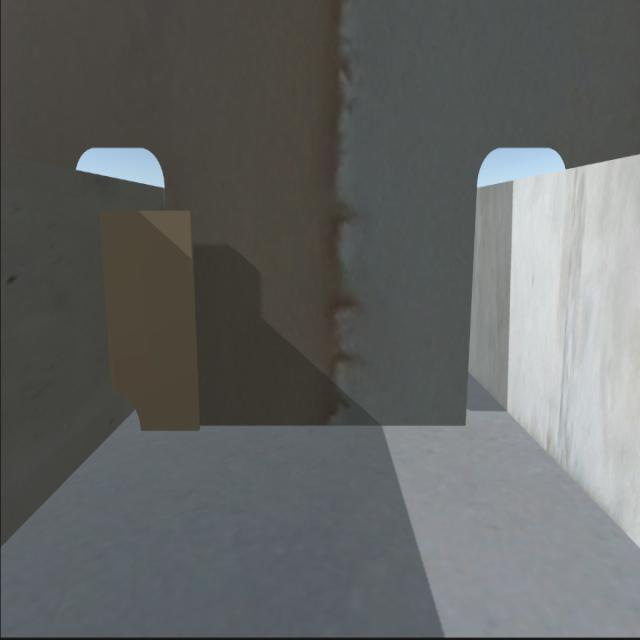fillet_hole: (112, 384, 144, 434)
fillet_yong_jeop_jang: (140, 423, 466, 432)
longi_yong_jeop_jang: (98, 212, 114, 383)
plate_CP01: (106, 204, 199, 431)
